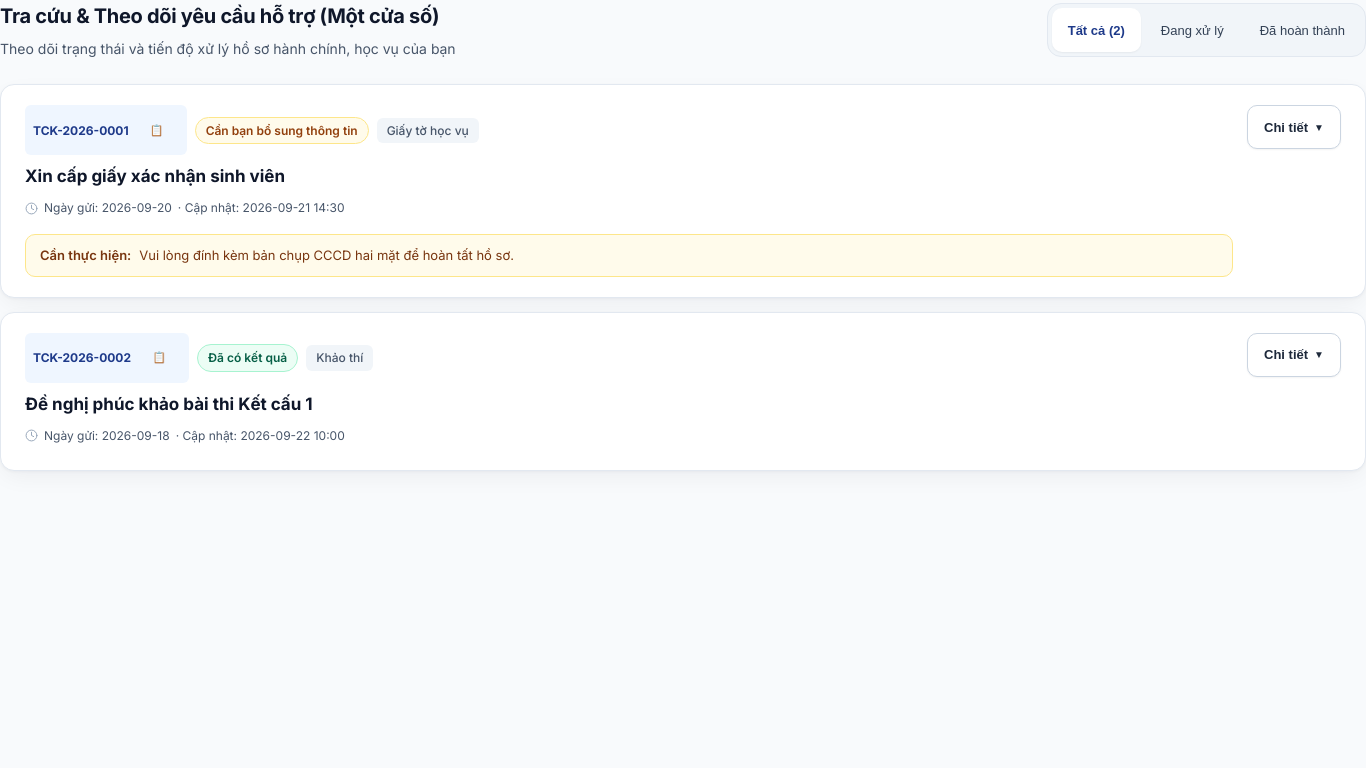
Test: TicketList Component (TASK-WEB-TICK-002) › toggles detail view with aria-controls and shows ordered public history without exposing internal notes
The image size is (1366, 768).
What coordinates should you click on to do the following:
click the button "Chi tiết ▼" in the row of "Giấy tờ học vụ"
I would click on:
 (1294, 127)
Its box is left=1247, top=105, right=1341, bottom=149.
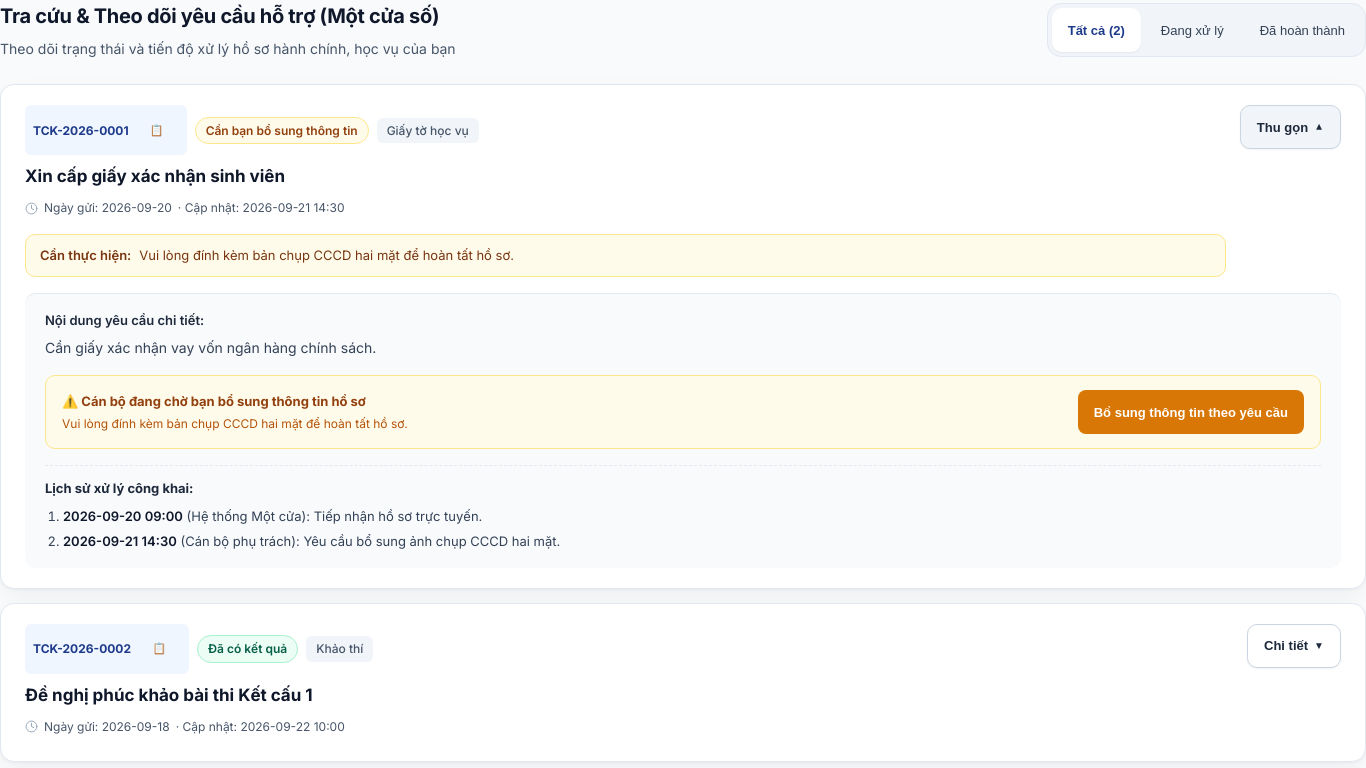
Expected: the button named "Chi tiết" is expanded, left=1240, top=105, right=1341, bottom=149
Expected: the element with id "ticket-detail-tck-001" is shown, left=25, top=293, right=1341, bottom=568
Expected: the text "Tiếp nhận hồ sơ trực tuyến." is shown, left=314, top=508, right=482, bottom=524
